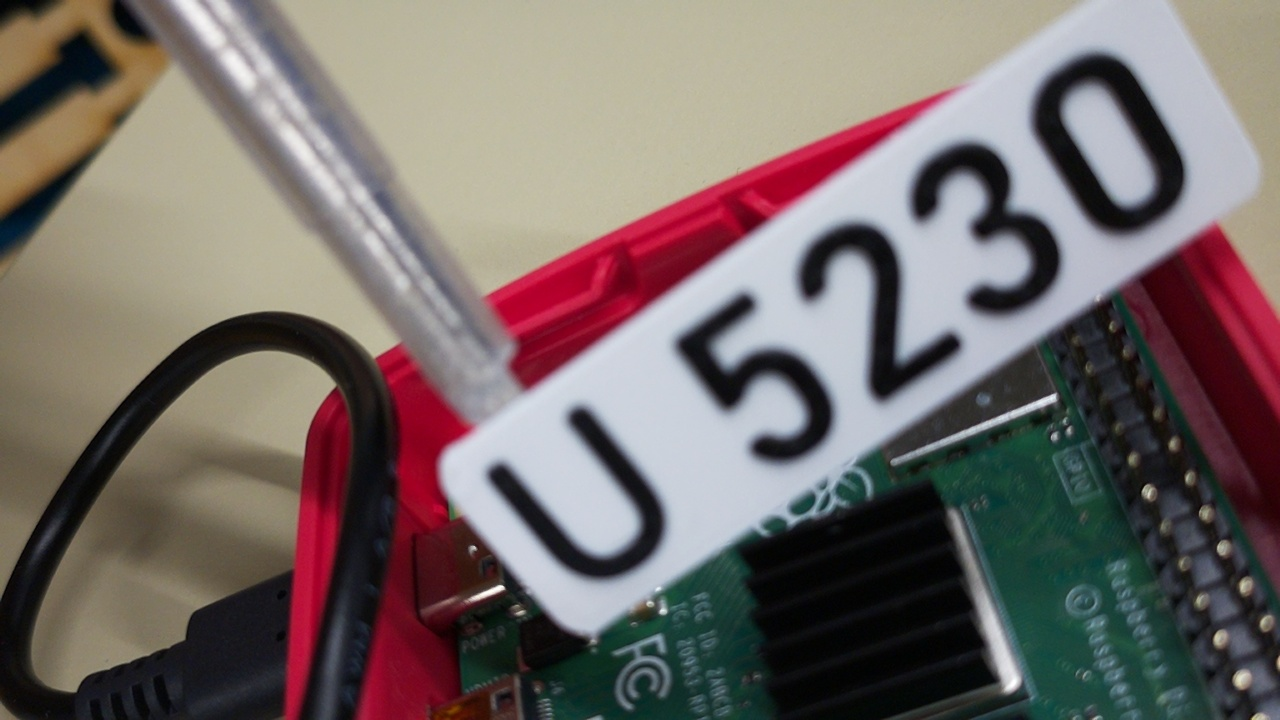license_plate: (434, 0, 1267, 644)
